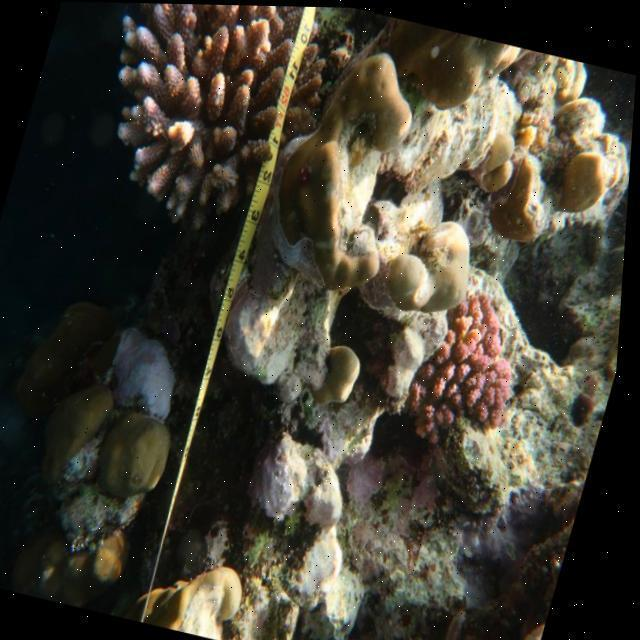Healthy Coral: (72, 2, 322, 230), (262, 34, 436, 288), (401, 278, 542, 468), (86, 386, 193, 516)
